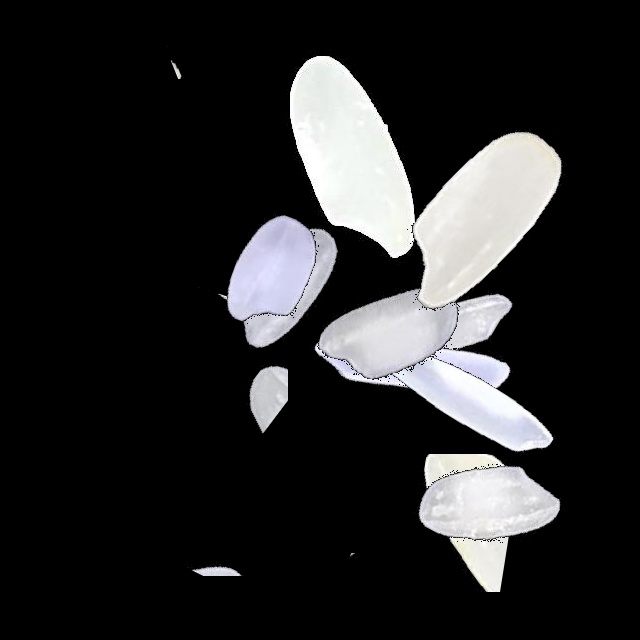Broken: (316, 454, 566, 592), (198, 260, 288, 510), (88, 489, 338, 576), (250, 553, 500, 636), (78, 4, 328, 79), (176, 206, 251, 456)
Full: (318, 199, 568, 449), (226, 30, 476, 280), (290, 236, 540, 486), (339, 270, 589, 520), (265, 203, 515, 453), (163, 161, 413, 411), (352, 92, 602, 342), (145, 147, 395, 397), (363, 381, 613, 631)
